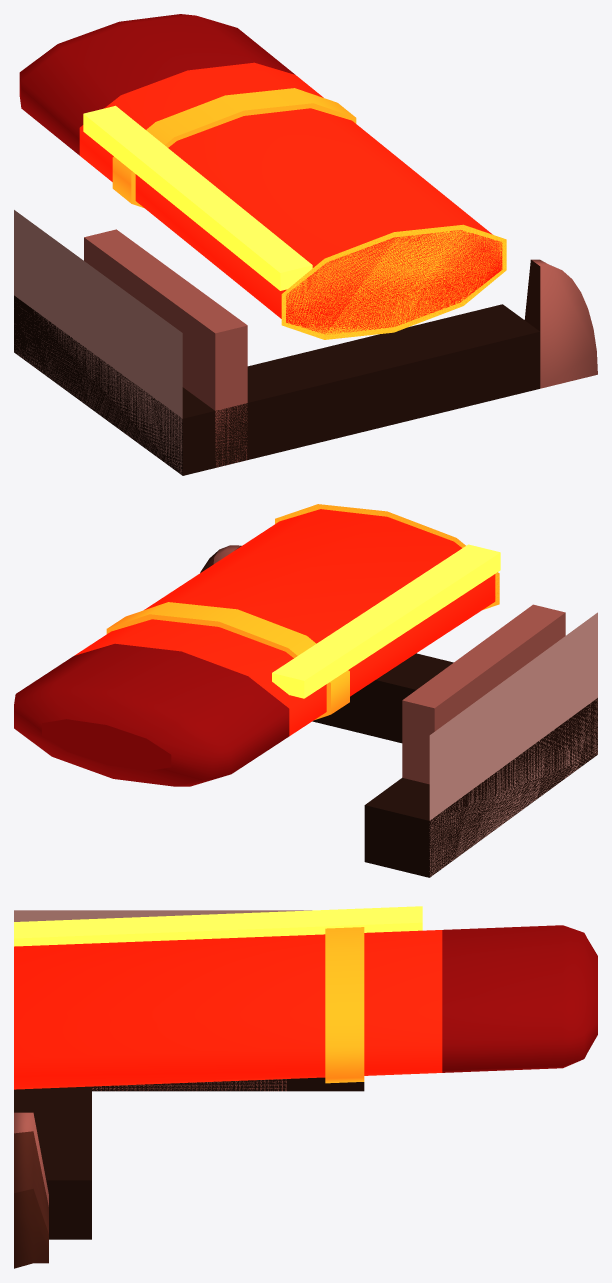
File: newshf-163.glb
3 views of the same model, one above another, from view 1: azimuth 30°, elevation 25°; view 2: azimuth 150°, elevation 25°; view 3: azimuth 270°, elevation 25° (orthographic). The views are drawn at different scales.
Visible parts, largest first — view 1: newshf-163; view 2: newshf-163; view 3: newshf-163.
Boxes of the visible parts, x1,y1,x2,y2 form: newshf-163: (14,14,597,475); newshf-163: (14,504,597,877); newshf-163: (14,906,597,1268).
Size of the model in its own units: 1.06 by 0.5086 by 1.25.
